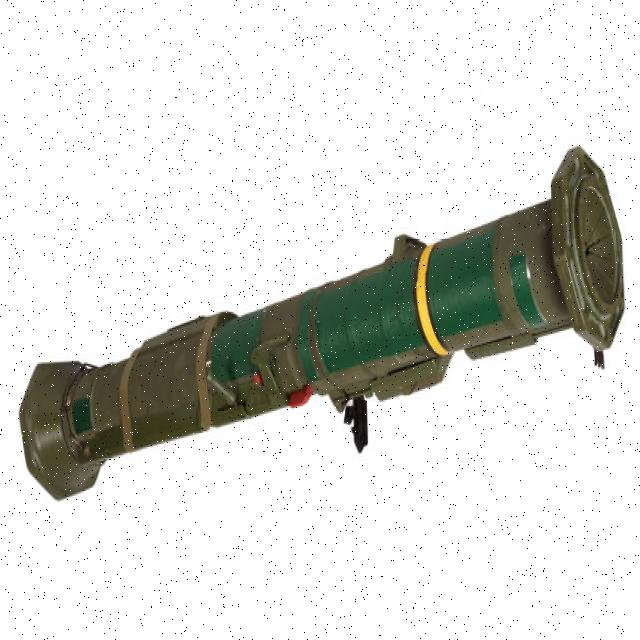bazooka: (16, 138, 630, 513)
